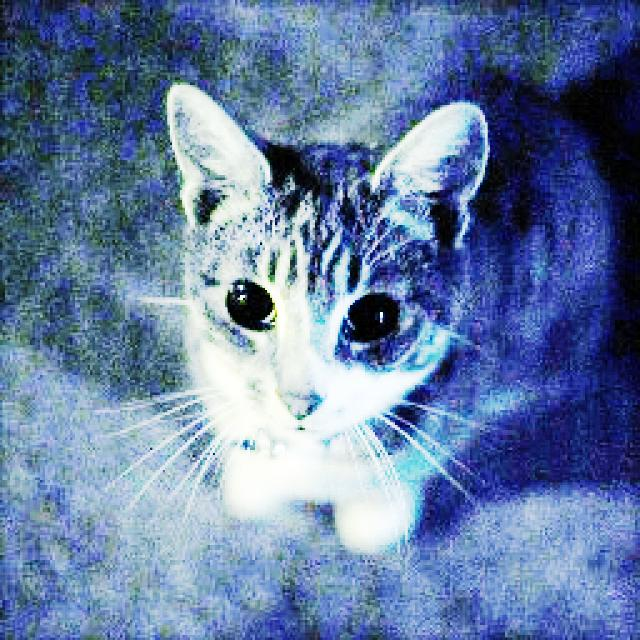cat: (162, 82, 640, 551)
